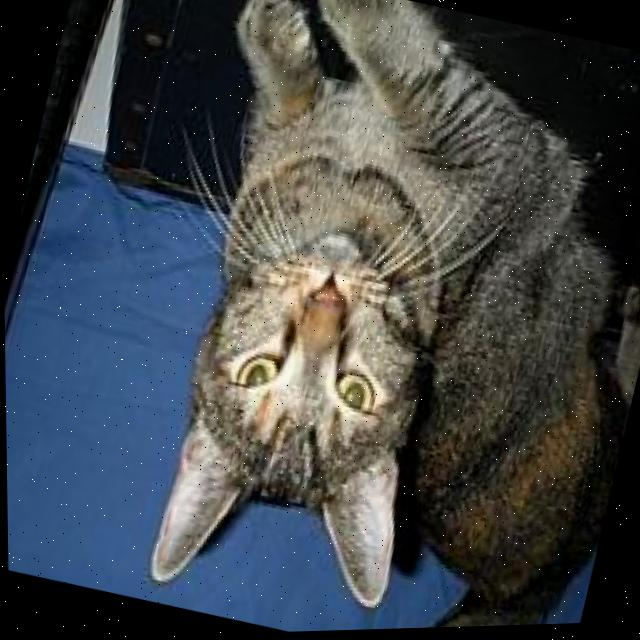Abyssinian: (88, 0, 640, 638)
